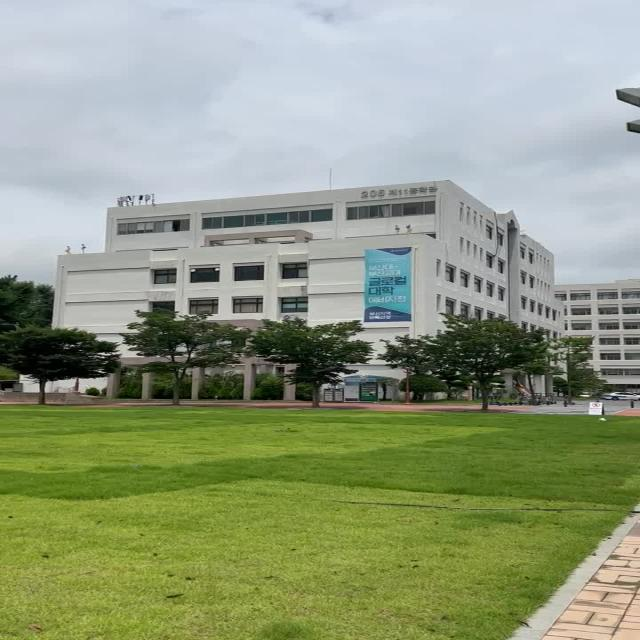building: (64, 177, 578, 322)
